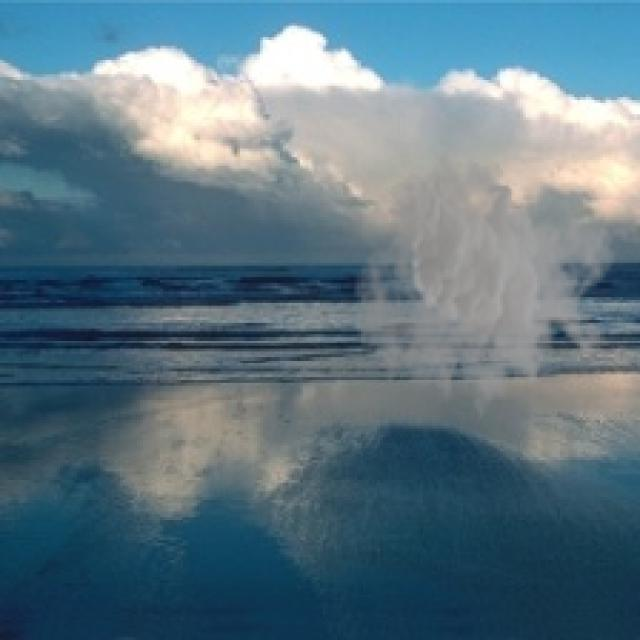Smoke: (352, 148, 617, 428)
